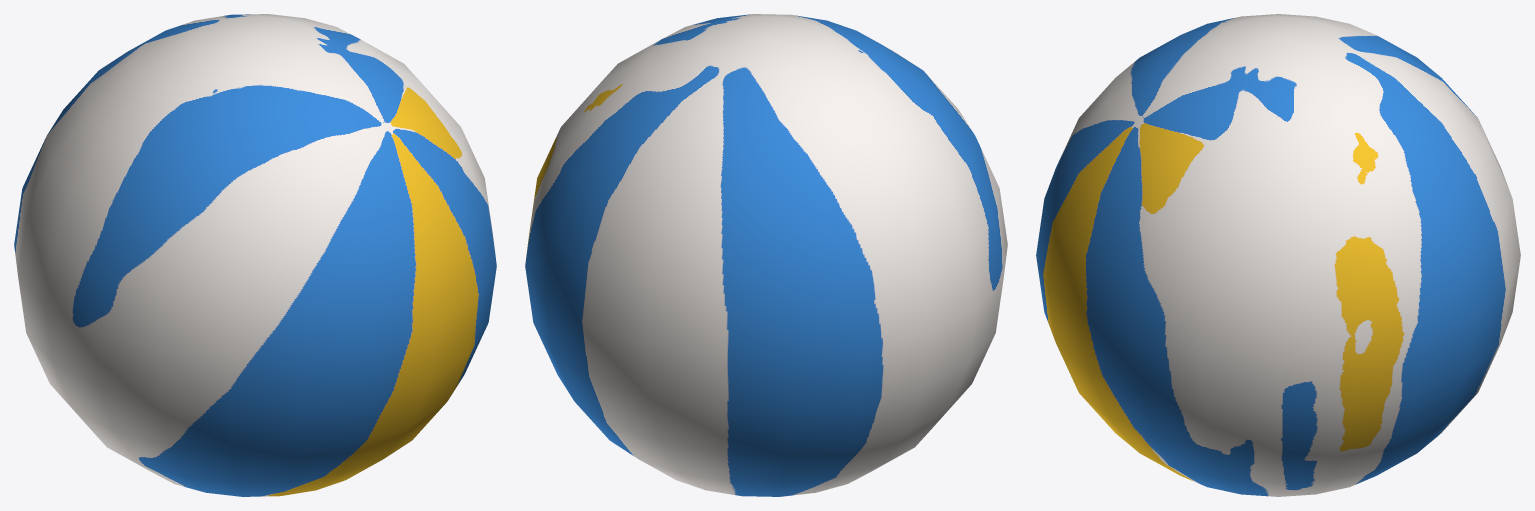
Rendered from bola.gltf.
The picture shows the model from 3 angles, left to right: view 1: azimuth 30°, elevation 25°; view 2: azimuth 150°, elevation 25°; view 3: azimuth 270°, elevation 25°; orthographic projection.
Visible parts, largest first — view 1: bola; view 2: bola; view 3: bola.
Boxes of the visible parts, x1,y1,x2,y2 form: bola: (14,14,496,496); bola: (525,14,1007,496); bola: (1036,14,1520,496).
Bounding box in the file's own units: 1.84 × 1.84 × 1.84.
Materials: 1 (1 with a texture image).
